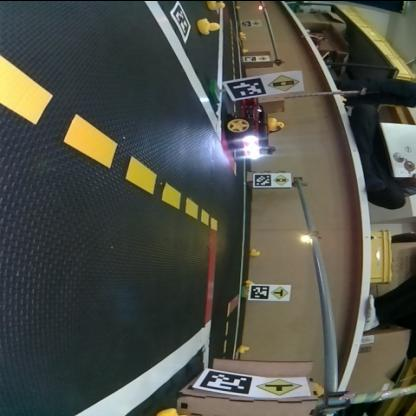Duckie: (197, 16, 222, 32), (270, 118, 284, 128), (207, 2, 226, 8), (240, 344, 251, 352), (251, 248, 261, 254), (242, 46, 249, 52)
Duckiebot: (228, 102, 270, 156)
Intersection sign: (260, 375, 302, 395), (272, 284, 290, 298)
QR code: (202, 367, 252, 395), (170, 0, 192, 42), (228, 78, 265, 98), (249, 284, 268, 298), (255, 173, 271, 184)
Signal sign: (270, 69, 304, 91), (275, 172, 291, 184)
Traffic light: (302, 230, 320, 242)
